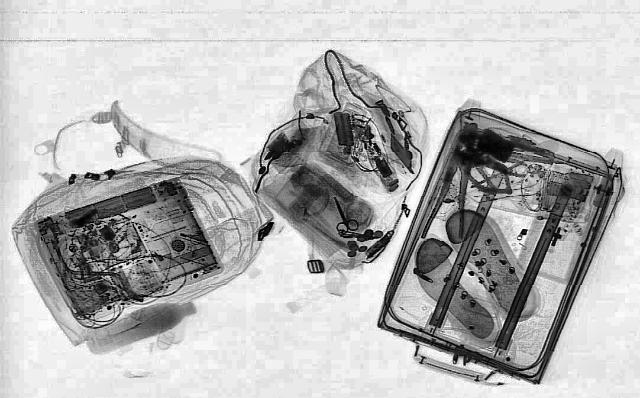Scissors: (324, 194, 358, 234)
